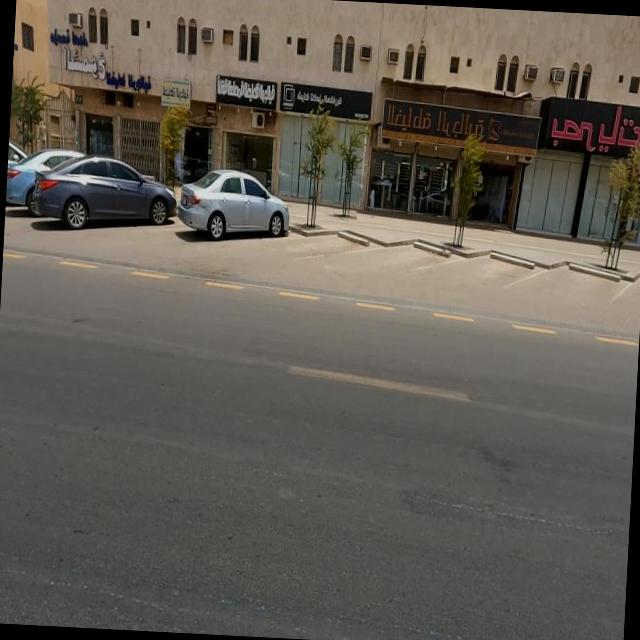debris: (358, 46, 602, 219)
